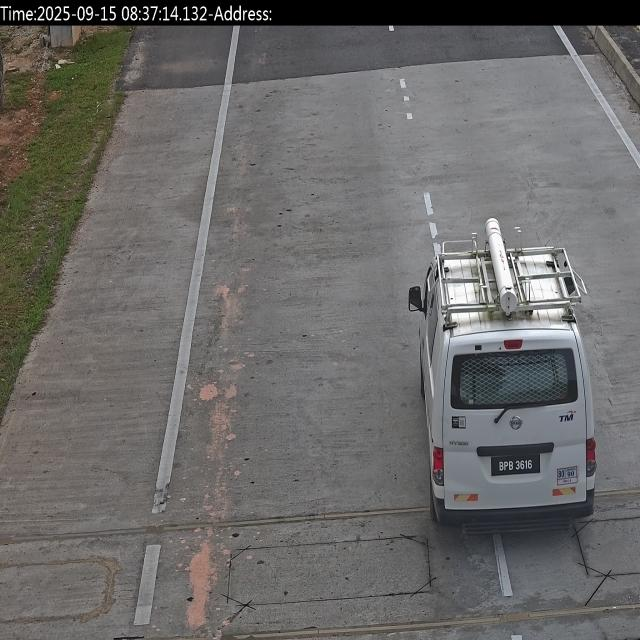back: (492, 451, 544, 482)
